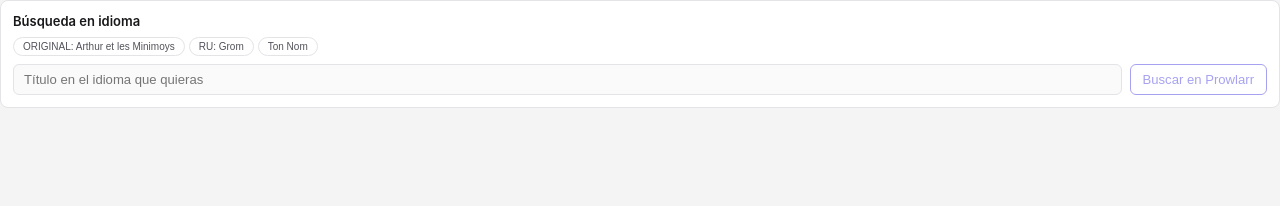
Test: Búsqueda en idioma — search and results › a chip-filled search carries the chip language alongside query and movieId
The width and height of the screenshot is (1280, 206).
Click the button "RU: Grom" at (221, 46), box [189, 37, 254, 56]
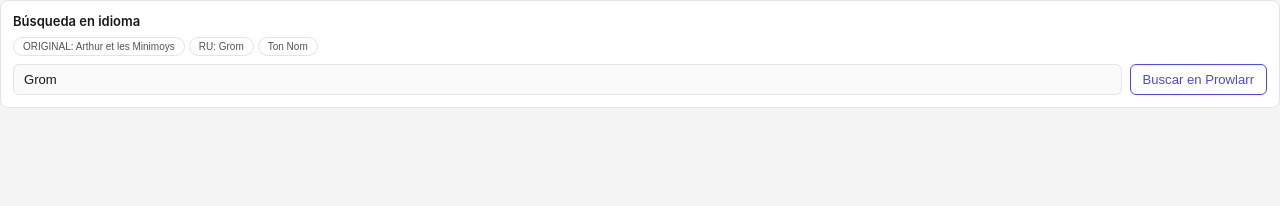
Click the button "Buscar en Prowlarr" at (1198, 80), box [1130, 64, 1267, 95]
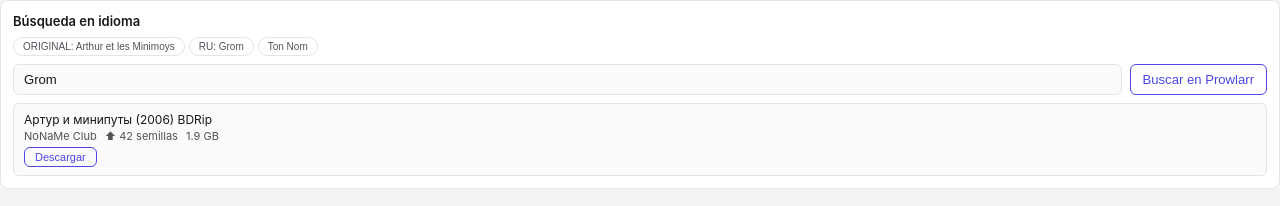
Now the text "Артур и минипуты (2006) BDRip" is shown, box [24, 112, 212, 127]
